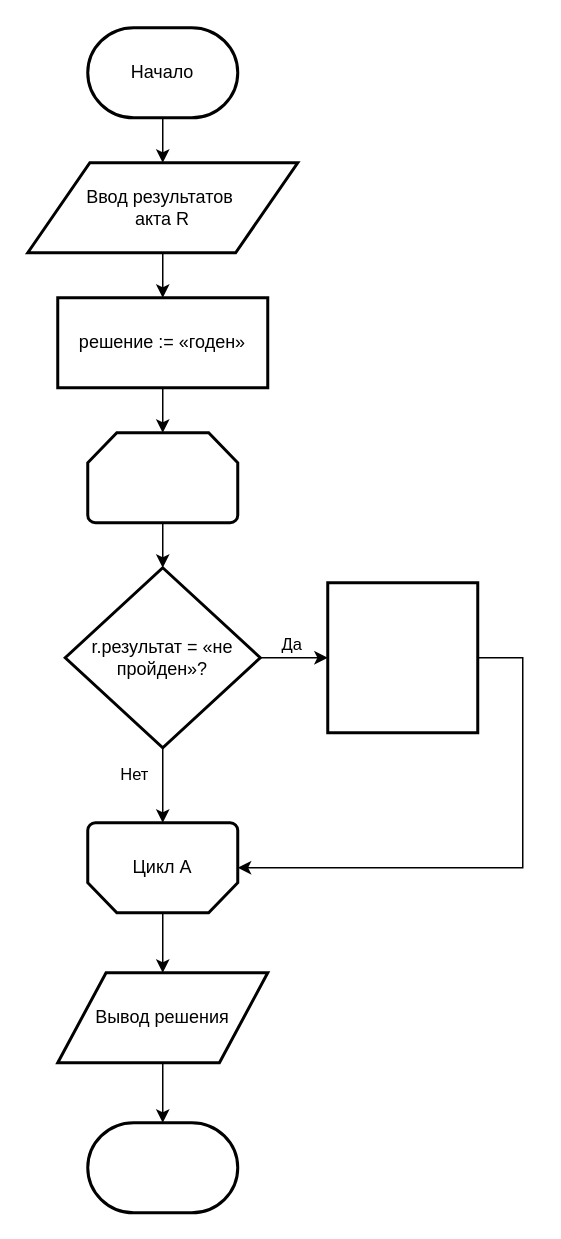
Some shapes in this 561 by 1239 pixel diagram are drawn without their labels. The box of each missing label's shape, as (x1, y1, x2, y2) in pixels:
Конец: (86, 1120, 238, 1214)
решение := «брак»: (326, 580, 478, 734)
Цикл A: для каждого r из R: (86, 430, 238, 524)
